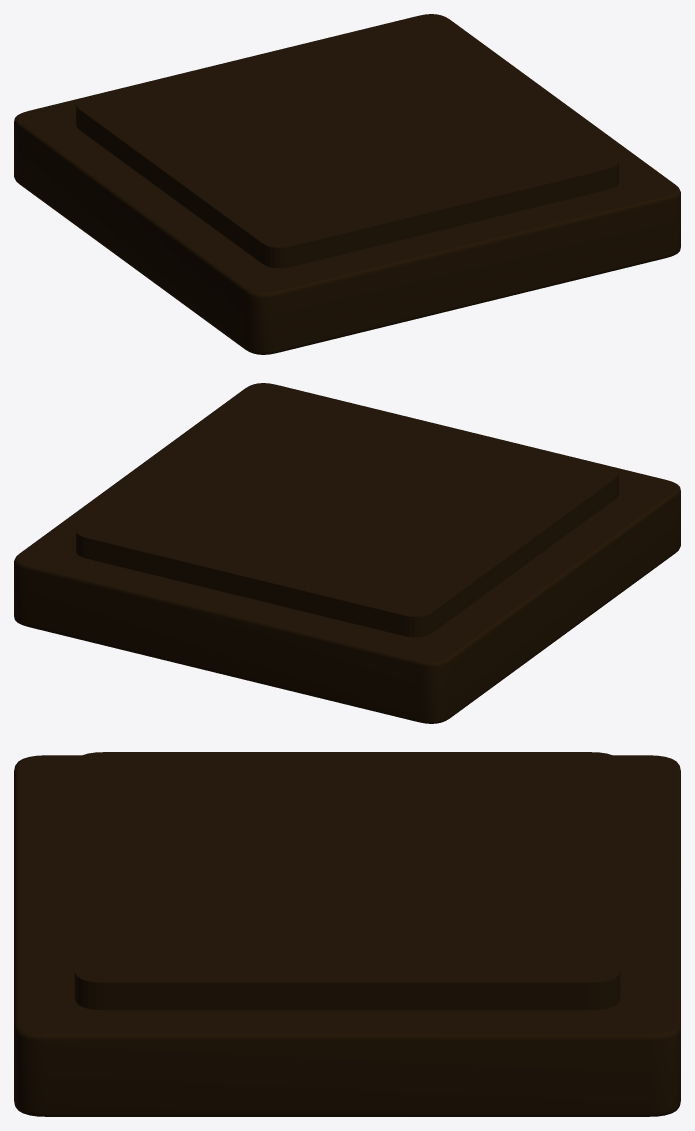
File: h-006_light_01_F.FBX
3 renders of one model, top to bottom at view 1: azimuth 30°, elevation 25°; view 2: azimuth 150°, elevation 25°; view 3: azimuth 270°, elevation 25°, orthographic. The views are drawn at different scales.
Visible parts, largest first — view 1: h-006_light_01; view 2: h-006_light_01; view 3: h-006_light_01.
Part boxes in pixels (x1,y1,x2,y2): h-006_light_01: [14, 14, 680, 354]; h-006_light_01: [14, 383, 680, 723]; h-006_light_01: [14, 752, 680, 1116].
Bounding box in the file's own units: 11 × 2 × 11.
